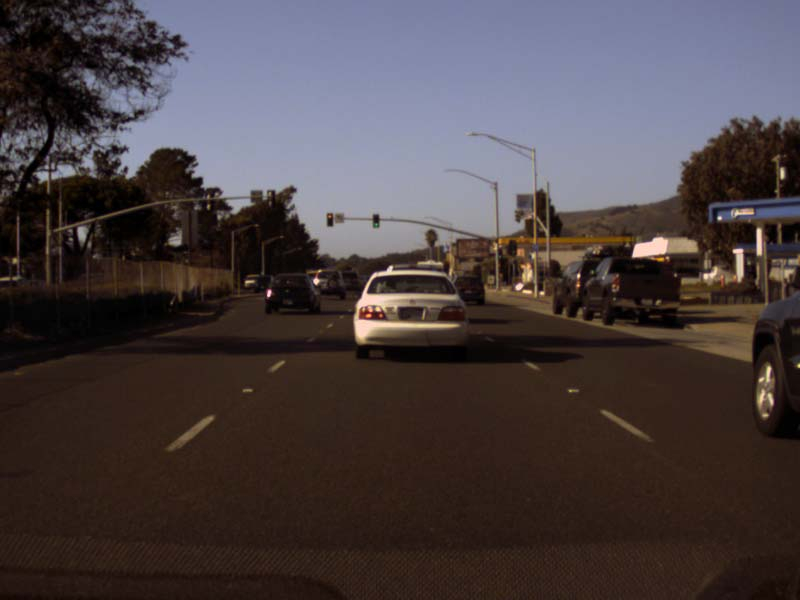Green: (372, 214, 378, 227), (510, 242, 515, 254), (498, 249, 501, 258)
Red: (326, 214, 332, 225)
